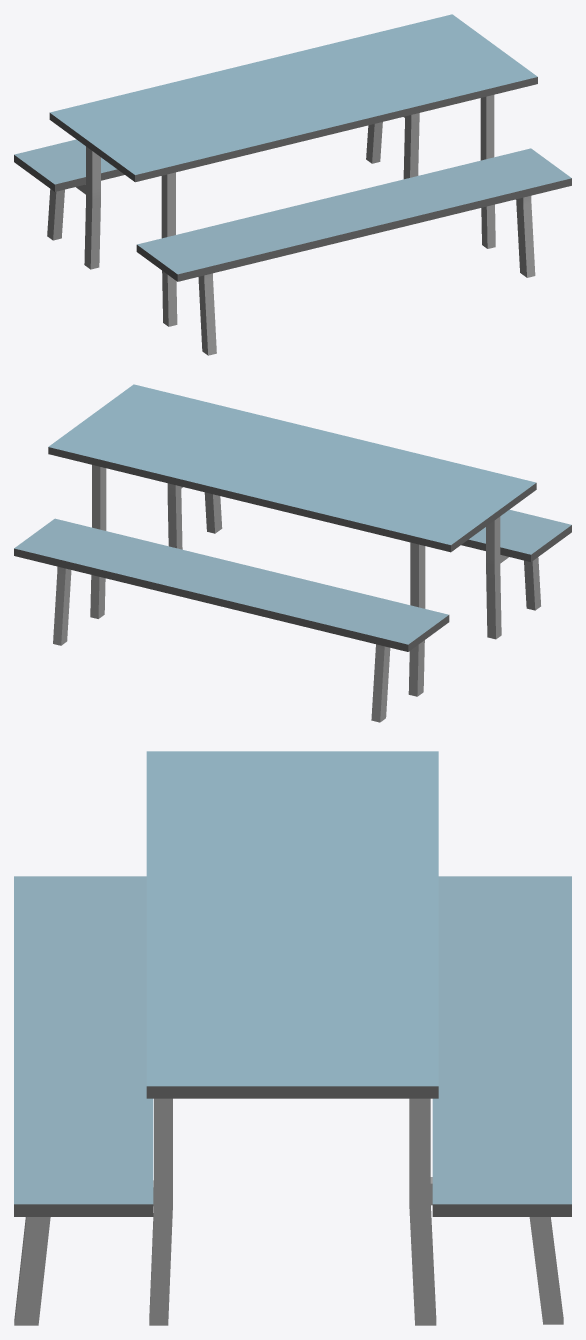
The model's file is TableCafeteria_02.fbx.
3 views of the same model, one above another, from view 1: azimuth 30°, elevation 25°; view 2: azimuth 150°, elevation 25°; view 3: azimuth 270°, elevation 25° (orthographic). The views are drawn at different scales.
Parts seen in each view (by area): view 1: TableCafeteria_03; view 2: TableCafeteria_03; view 3: TableCafeteria_03.
Part boxes in pixels (x1=…): TableCafeteria_03: x1=14, y1=14, x2=571, y2=355; TableCafeteria_03: x1=14, y1=384, x2=571, y2=722; TableCafeteria_03: x1=14, y1=751, x2=571, y2=1325.
Bounding box in the file's own units: 13.22 × 5.04 × 9.3.
